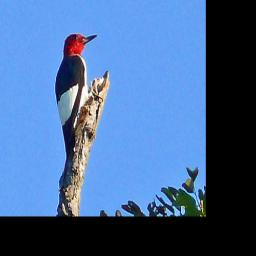Woodpecker: (45, 22, 104, 187)
